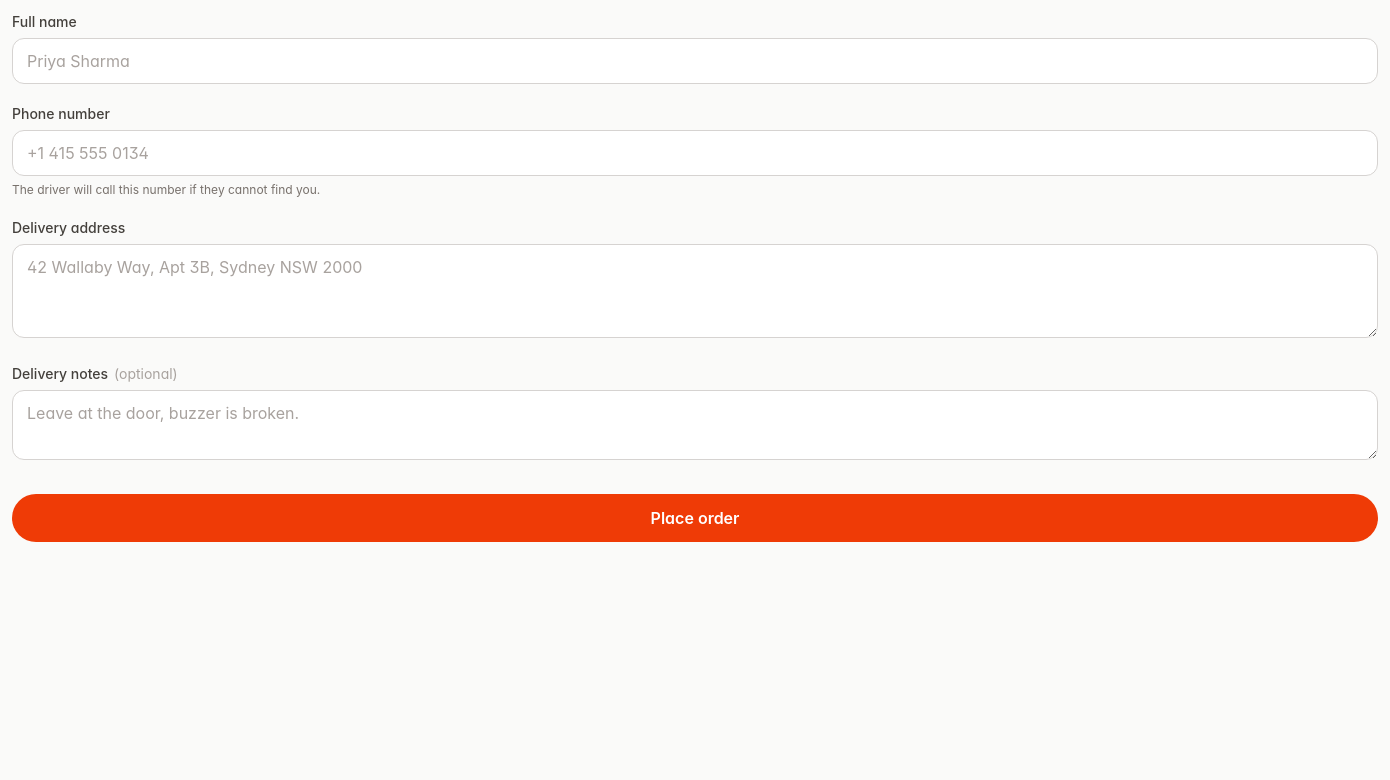
Test: field rules › rejects a name that is no letters at all
The width and height of the screenshot is (1390, 780).
Type "12345" into the field labelled "Full name".
click(695, 61); type("12345")  # box left=12, top=38, right=1378, bottom=84
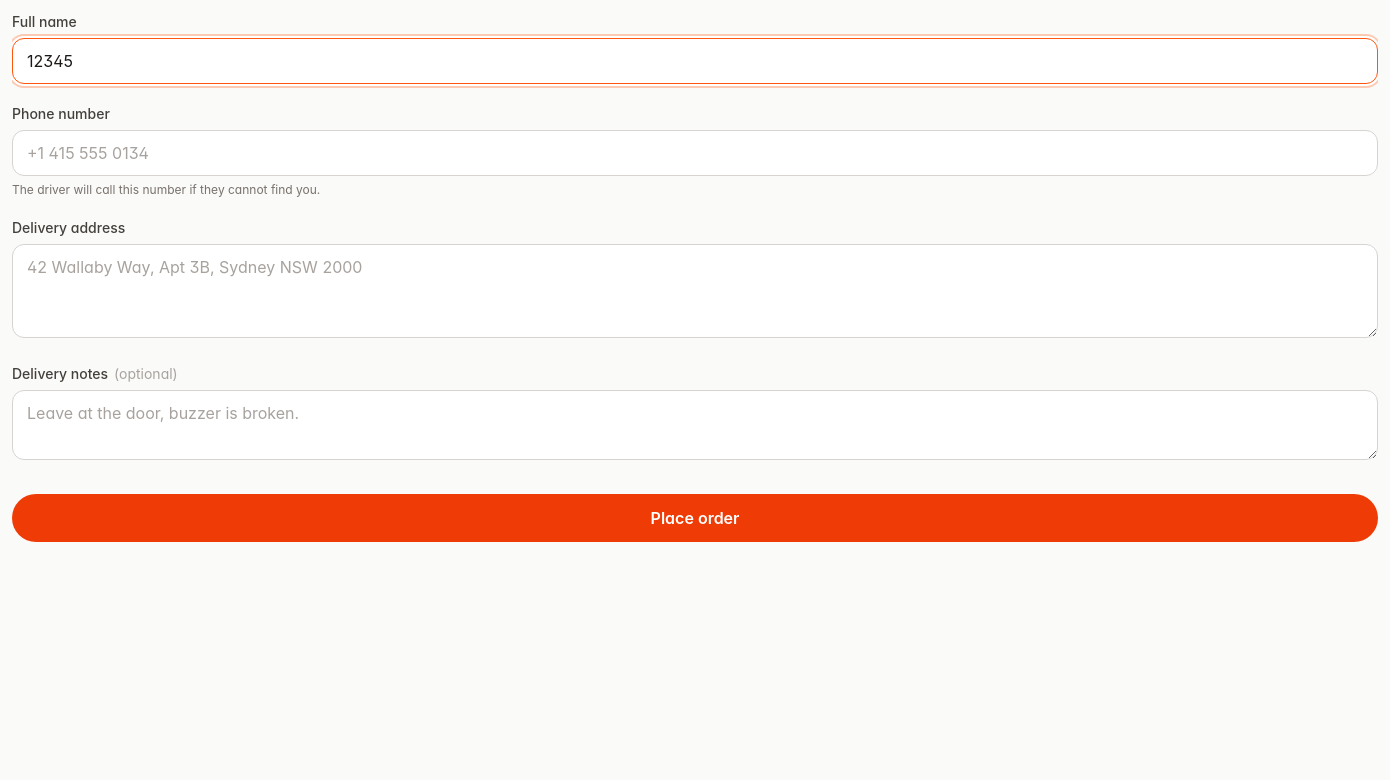
Press Tab
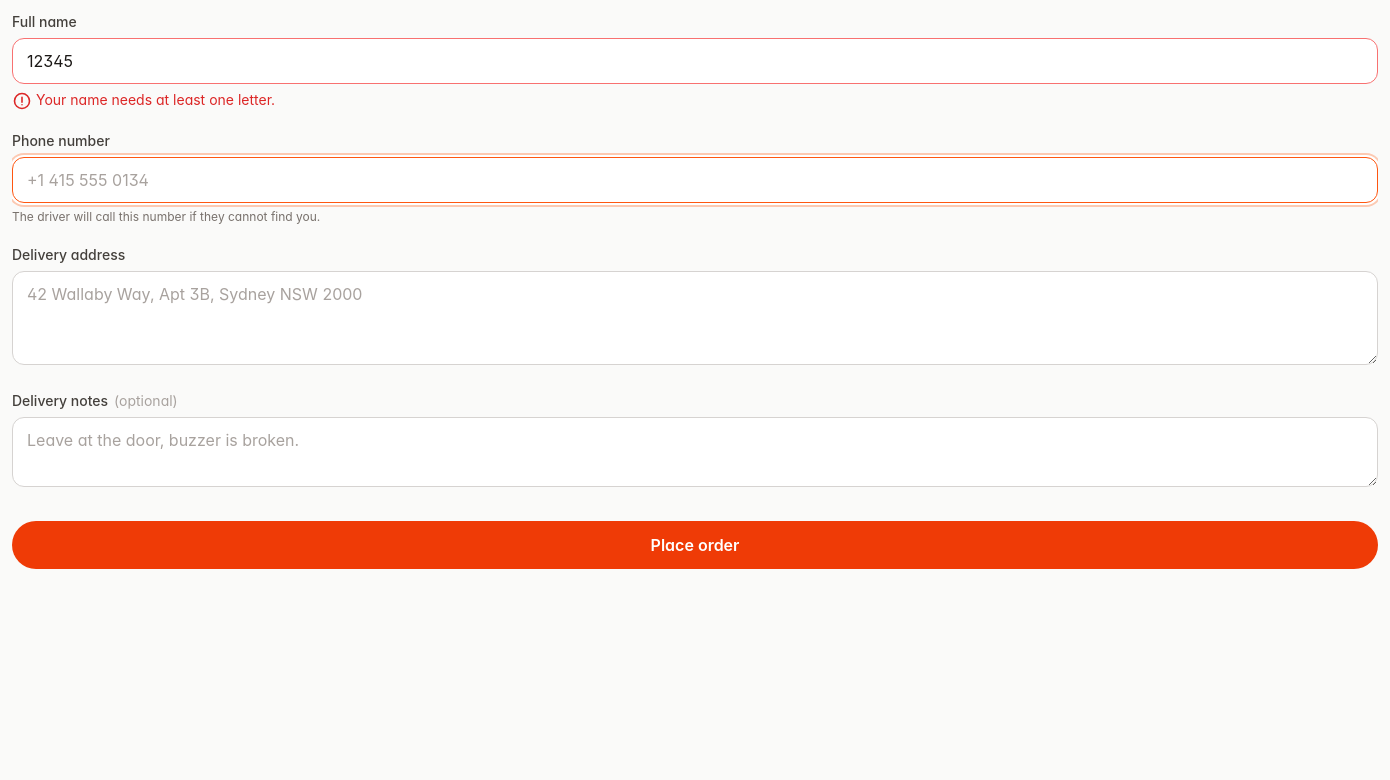
Expected: the text "Your name needs at least one letter." is shown, left=12, top=91, right=275, bottom=111
